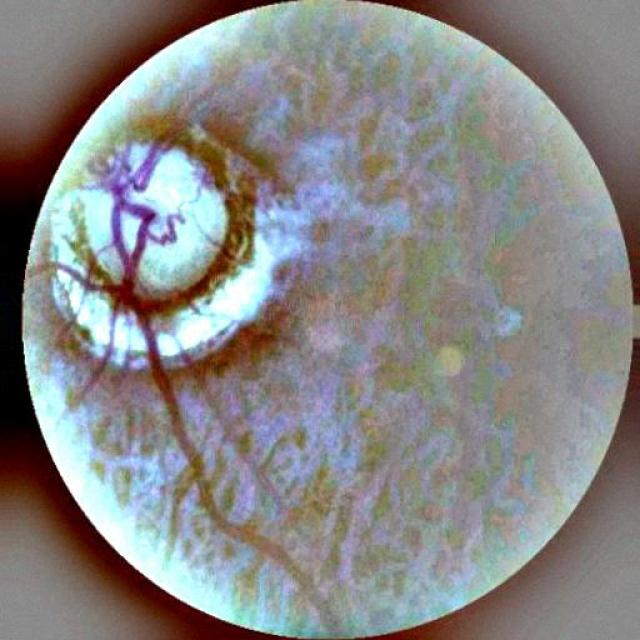Macula: (308, 220, 337, 246)
Nerves: (79, 150, 181, 397), (139, 320, 203, 479), (103, 165, 129, 266)
Optic Disk: (51, 142, 274, 368)
